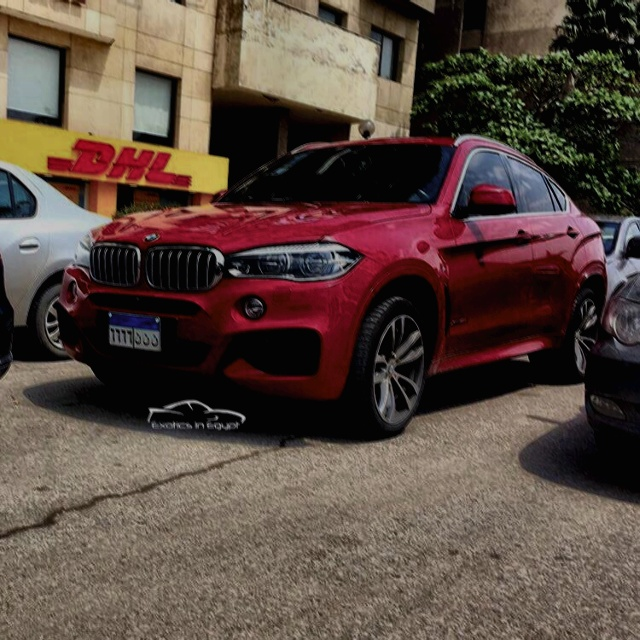License Plate: (107, 311, 163, 353)
